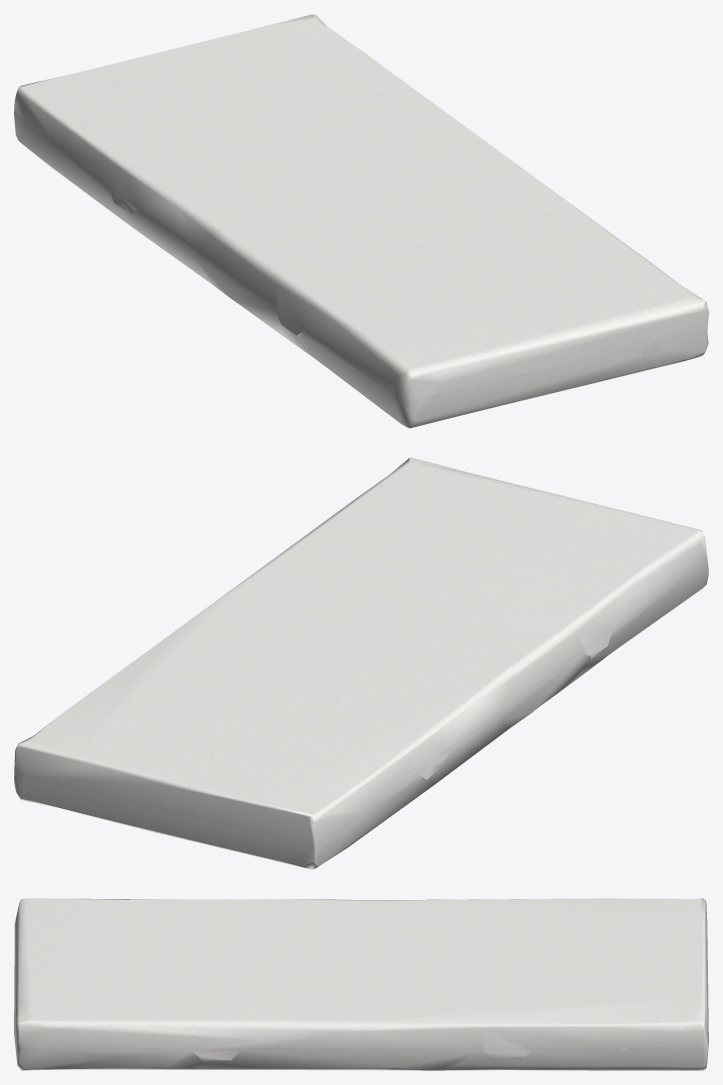
Rendered from 50481488-mini.glb.
3 views of the same model, one above another, from view 1: azimuth 30°, elevation 25°; view 2: azimuth 150°, elevation 25°; view 3: azimuth 270°, elevation 25° (orthographic). The views are drawn at different scales.
Parts seen in each view (by area): view 1: model; view 2: model; view 3: model.
Boxes of the visible parts, bbox=[...] form: model: bbox=[14, 14, 708, 428]; model: bbox=[14, 457, 708, 869]; model: bbox=[14, 898, 708, 1070].
Size of the model in its own units: 0.9107 by 0.1631 by 2.01.
1 material, 1 textured.
